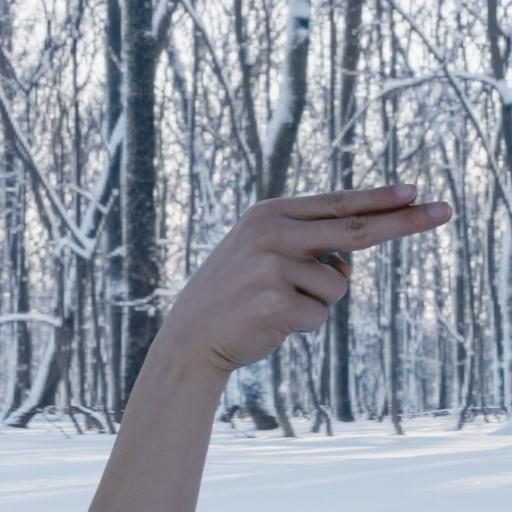H: (157, 176, 473, 372)
